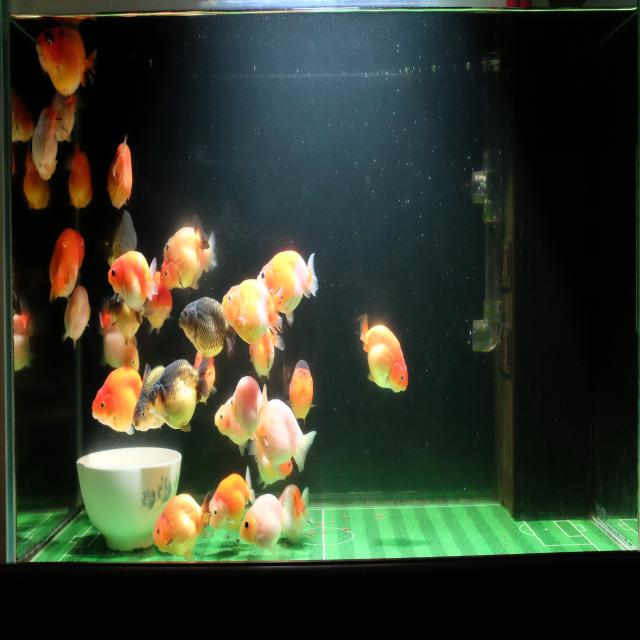Goldfish: (146, 355, 212, 435), (32, 26, 99, 101), (256, 249, 318, 328), (255, 398, 318, 475), (90, 361, 153, 436), (220, 277, 285, 347), (158, 212, 212, 292), (359, 311, 409, 397), (151, 491, 211, 562), (238, 486, 293, 557), (178, 294, 236, 359), (204, 466, 256, 536), (107, 248, 160, 314), (47, 224, 86, 305), (230, 372, 270, 444), (97, 313, 141, 378), (98, 202, 138, 272), (213, 396, 256, 458), (130, 364, 168, 434), (286, 358, 318, 428), (106, 134, 134, 214), (30, 104, 58, 184), (10, 299, 38, 376), (140, 268, 173, 333), (279, 481, 311, 548), (60, 280, 91, 349), (22, 147, 53, 215), (64, 143, 94, 212), (192, 342, 218, 408), (162, 222, 199, 259), (11, 87, 34, 146), (53, 90, 79, 139)
